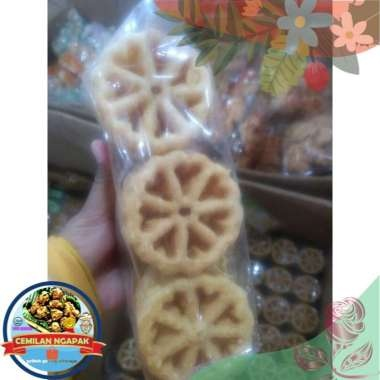kembang_goyang: (124, 152, 238, 274)
